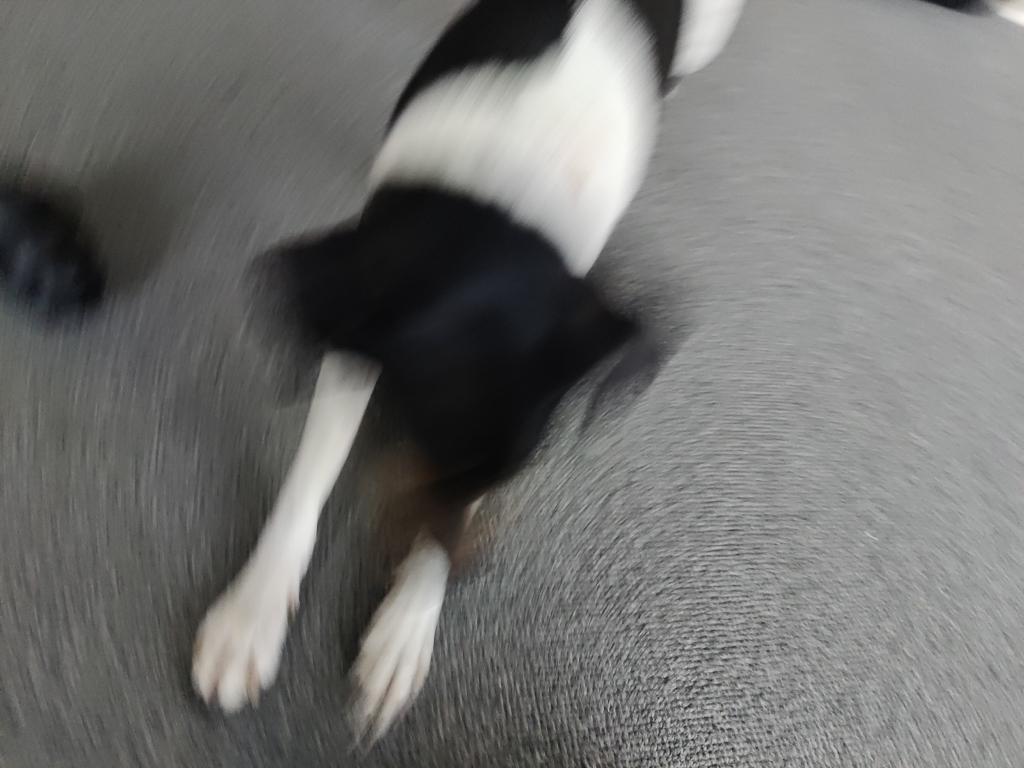Dog: (147, 0, 776, 765)
